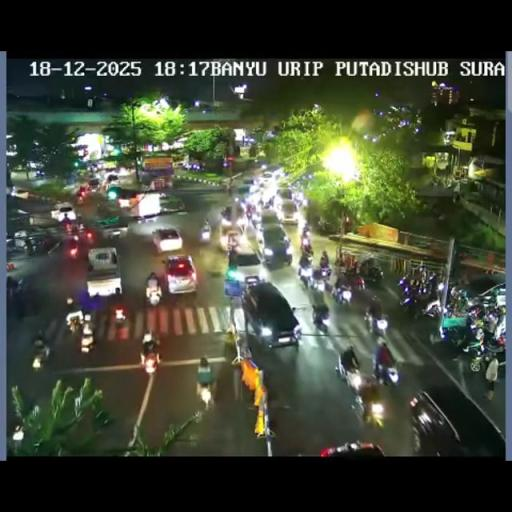Car: (240, 282, 302, 350), (406, 391, 459, 453), (86, 247, 122, 298), (163, 254, 198, 296), (258, 225, 292, 265), (320, 440, 386, 457), (232, 249, 264, 284), (152, 227, 182, 253), (221, 205, 245, 231), (258, 208, 281, 232), (278, 198, 300, 223), (51, 202, 75, 222), (235, 182, 252, 200), (10, 187, 30, 199), (259, 172, 275, 186), (103, 174, 119, 188), (86, 178, 100, 192)
Motorcycle: (300, 254, 391, 340), (464, 332, 504, 377), (436, 314, 474, 352), (399, 285, 433, 319), (360, 389, 386, 428), (341, 362, 368, 394), (373, 357, 399, 386), (264, 386, 282, 425), (139, 345, 160, 374), (196, 377, 215, 409), (366, 308, 388, 335), (312, 302, 330, 332), (449, 287, 469, 313), (31, 344, 49, 370), (332, 282, 353, 304), (14, 286, 28, 318), (492, 309, 506, 341), (80, 326, 95, 353), (346, 273, 366, 293), (10, 425, 24, 453), (146, 282, 162, 306), (222, 338, 236, 364), (308, 273, 326, 293), (246, 205, 261, 229), (466, 303, 484, 323), (366, 266, 384, 284), (317, 218, 336, 234), (426, 273, 438, 297), (298, 262, 311, 284), (67, 315, 82, 334), (6, 275, 18, 297), (198, 220, 210, 242), (226, 232, 240, 250), (114, 308, 126, 326), (262, 194, 275, 209), (398, 274, 410, 290), (107, 228, 123, 240), (85, 227, 95, 245), (320, 258, 330, 275), (302, 244, 314, 258), (24, 242, 34, 256), (76, 192, 86, 205), (70, 231, 80, 243), (66, 296, 74, 310), (222, 182, 231, 194), (302, 223, 309, 235), (284, 234, 290, 248), (437, 282, 445, 291)
